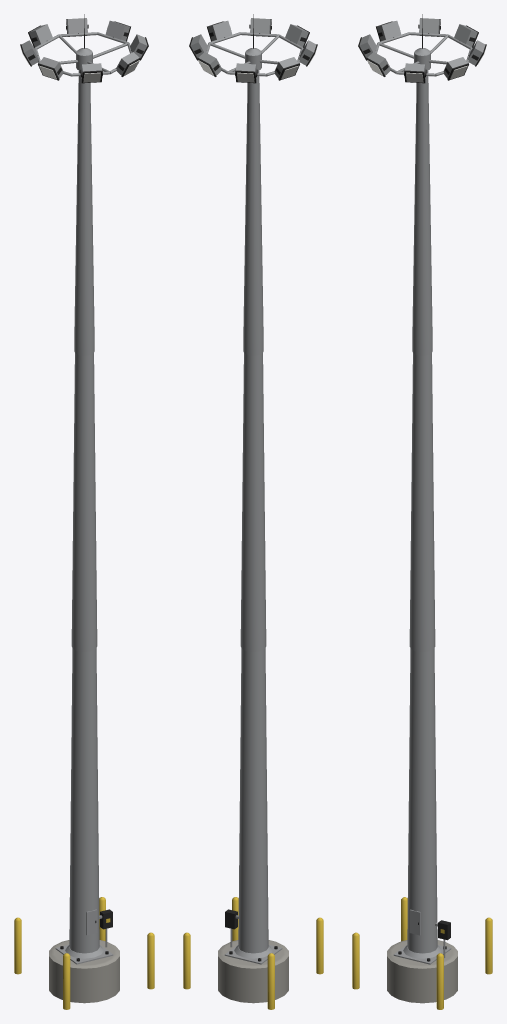
Rendered from light_yard_mast.glb.
3 renders of one model, left to right at view 1: azimuth 30°, elevation 25°; view 2: azimuth 150°, elevation 25°; view 3: azimuth 330°, elevation 25°, orthographic.
Parts seen in each view (by area): view 1: Fixed_Galv, Fixed_Concrete, Fixed_Yellow, Fixed_Black, Fixed_White; view 2: Fixed_Galv, Fixed_Concrete, Fixed_Yellow, Fixed_Black, Fixed_White; view 3: Fixed_Galv, Fixed_Concrete, Fixed_Yellow, Fixed_Black, Fixed_White.
Boxes of the visible parts, <box> form: Fixed_Galv: <box>21,18,147,964</box>; Fixed_Concrete: <box>49,940,119,1003</box>; Fixed_Yellow: <box>14,897,154,1009</box>; Fixed_Black: <box>20,14,148,961</box>; Fixed_White: <box>20,47,139,82</box>; Fixed_Galv: <box>190,18,316,964</box>; Fixed_Concrete: <box>218,940,288,1003</box>; Fixed_Yellow: <box>183,897,323,1009</box>; Fixed_Black: <box>189,14,317,961</box>; Fixed_White: <box>198,47,317,82</box>; Fixed_Galv: <box>359,18,485,964</box>; Fixed_Concrete: <box>387,940,457,1003</box>; Fixed_Yellow: <box>352,897,492,1009</box>; Fixed_Black: <box>358,14,486,961</box>; Fixed_White: <box>367,47,486,82</box>.
Bounding box in the file's own units: 2.96 × 25.4 × 2.96.
